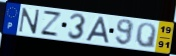3: (67, 13, 87, 41)
9: (114, 18, 135, 47)
A: (84, 16, 110, 45)
N: (18, 7, 42, 35)
Q: (135, 22, 158, 50)
Z: (39, 9, 64, 38)
